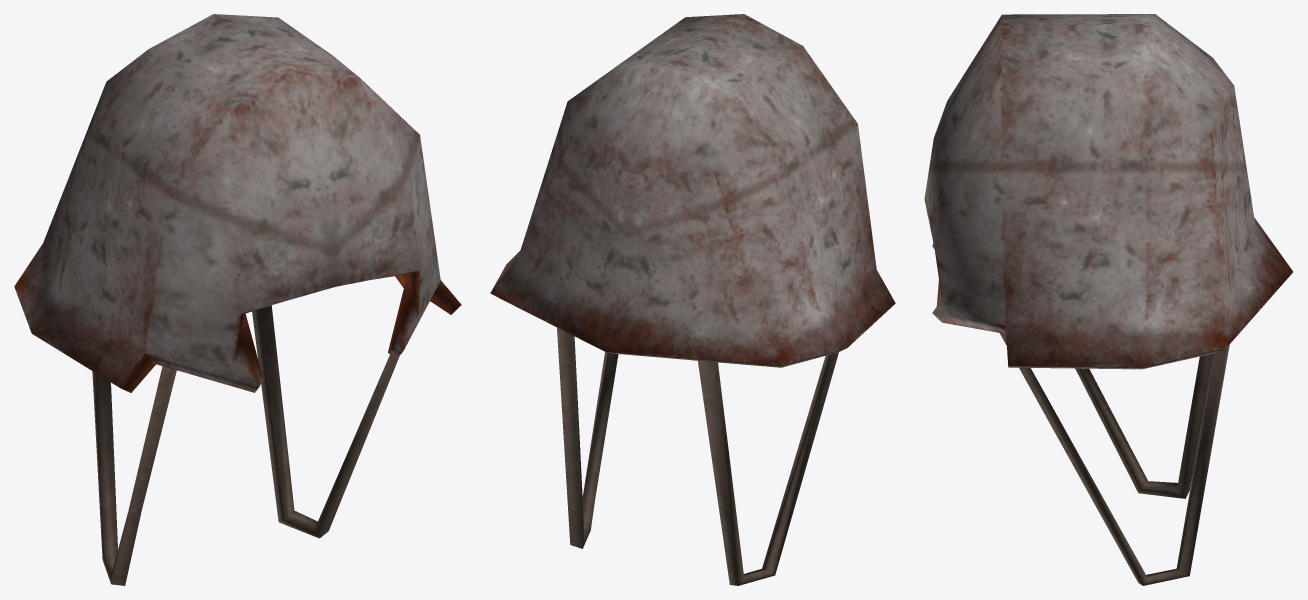
Rendered from medium_helmet.glb.
3 views of the same model, side by side, from view 1: azimuth 30°, elevation 25°; view 2: azimuth 150°, elevation 25°; view 3: azimuth 270°, elevation 25° (orthographic). The views are drawn at different scales.
Visible parts, largest first — view 1: helmet hiver; view 2: helmet hiver; view 3: helmet hiver.
Part boxes in pixels (bbox=[...]): helmet hiver: bbox=[14, 14, 461, 585]; helmet hiver: bbox=[490, 14, 895, 585]; helmet hiver: bbox=[924, 14, 1293, 585].
Size of the model in its own units: 0.293 by 0.4026 by 0.2627.
Materials: 1 (1 with a texture image).
